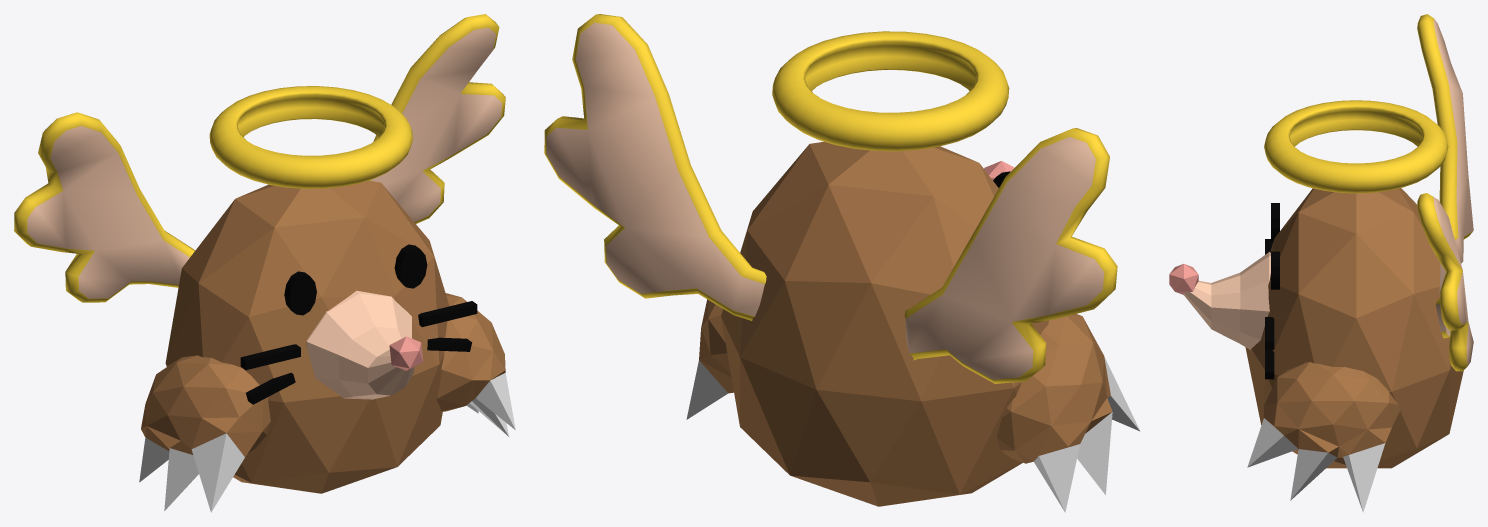
File: angelMole.fbx
3 renders of one model, left to right at view 1: azimuth 30°, elevation 25°; view 2: azimuth 150°, elevation 25°; view 3: azimuth 270°, elevation 25°, orthographic. The views are drawn at different scales.
Visible parts, largest first — view 1: Body.013, Wing01.002, LeftHand.013, Cilindro.026, Nose.013, RightHand.013, Cubo.014, eye01.024, eye01.015, NoseTip.013; view 2: Body.013, Wing01.002, Cilindro.026, LeftHand.013, RightHand.013; view 3: Body.013, RightHand.013, Cilindro.026, Wing01.002, Nose.013, Cubo.014, NoseTip.013, eye01.015.
Part boxes in pixels (<box>): Body.013: <box>165,180,449,493</box>; Wing01.002: <box>14,14,505,302</box>; LeftHand.013: <box>139,355,270,512</box>; Cilindro.026: <box>209,86,412,188</box>; Nose.013: <box>306,290,414,399</box>; RightHand.013: <box>436,293,515,436</box>; Cubo.014: <box>240,301,477,404</box>; eye01.024: <box>284,271,316,315</box>; eye01.015: <box>394,244,427,288</box>; NoseTip.013: <box>389,336,423,370</box>; Body.013: <box>721,141,1048,506</box>; Wing01.002: <box>544,14,1117,383</box>; Cilindro.026: <box>772,31,1009,151</box>; LeftHand.013: <box>996,314,1140,512</box>; RightHand.013: <box>686,299,733,419</box>; Body.013: <box>1245,188,1463,468</box>; RightHand.013: <box>1247,362,1399,512</box>; Cilindro.026: <box>1264,100,1448,193</box>; Wing01.002: <box>1417,14,1473,371</box>; Nose.013: <box>1183,252,1270,349</box>; Cubo.014: <box>1265,239,1274,379</box>; NoseTip.013: <box>1169,264,1198,294</box>; eye01.015: <box>1271,251,1279,289</box>.
Size of the model in its own units: 443 by 322 by 264.
